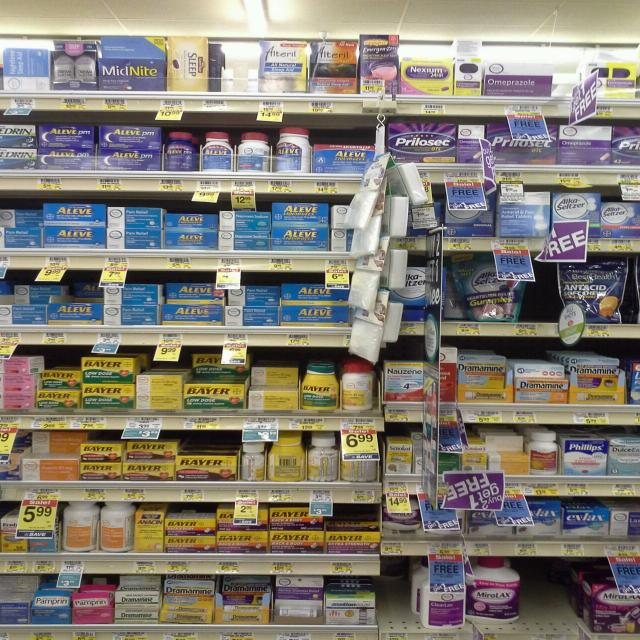unorganised: (469, 561, 523, 630), (270, 434, 306, 483), (274, 130, 310, 174), (191, 356, 251, 382), (342, 364, 373, 408), (29, 432, 82, 457), (160, 282, 227, 301), (239, 132, 270, 173), (9, 282, 56, 303), (242, 444, 265, 482), (124, 443, 176, 459), (37, 370, 80, 388), (1, 208, 45, 225), (67, 284, 106, 303)
